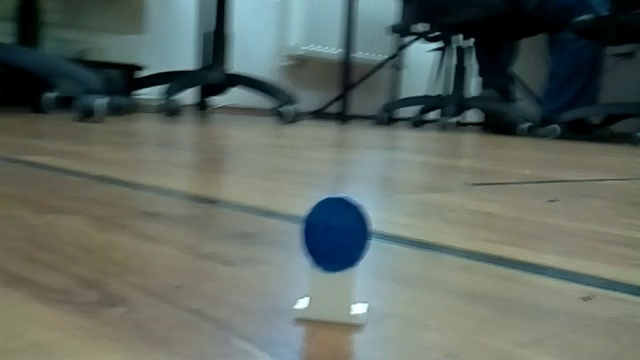circle: (286, 188, 376, 329)
